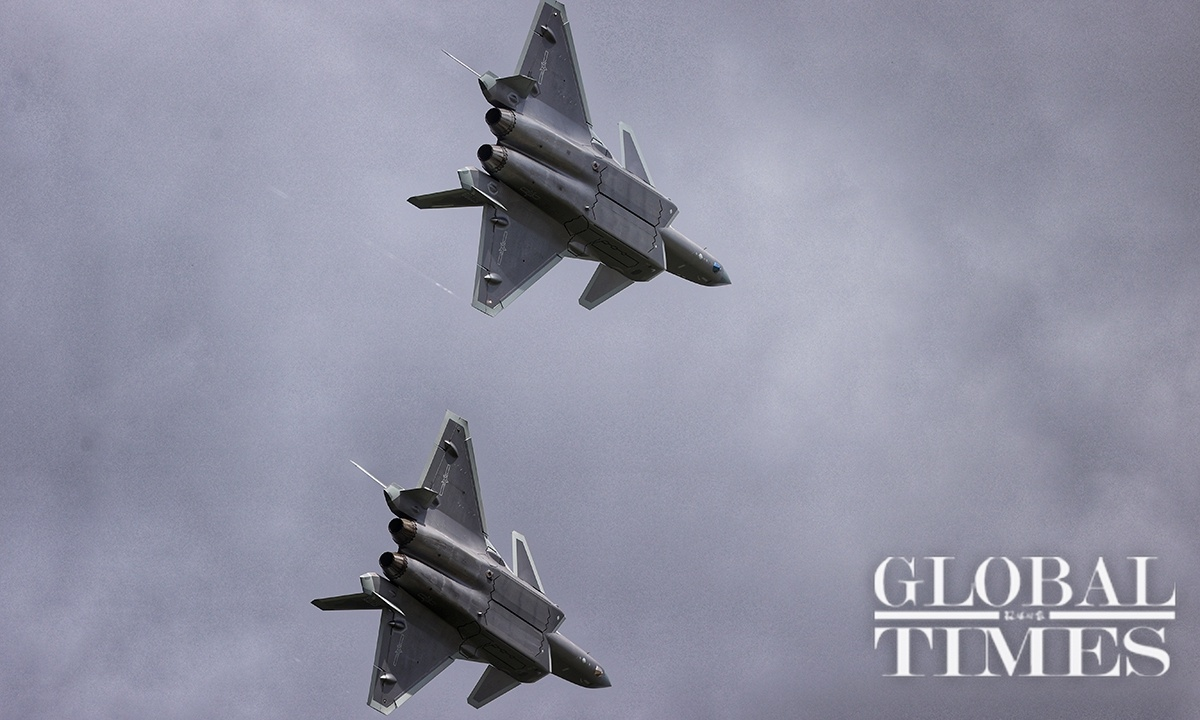J20: (406, 1, 733, 319), (309, 407, 613, 717)
